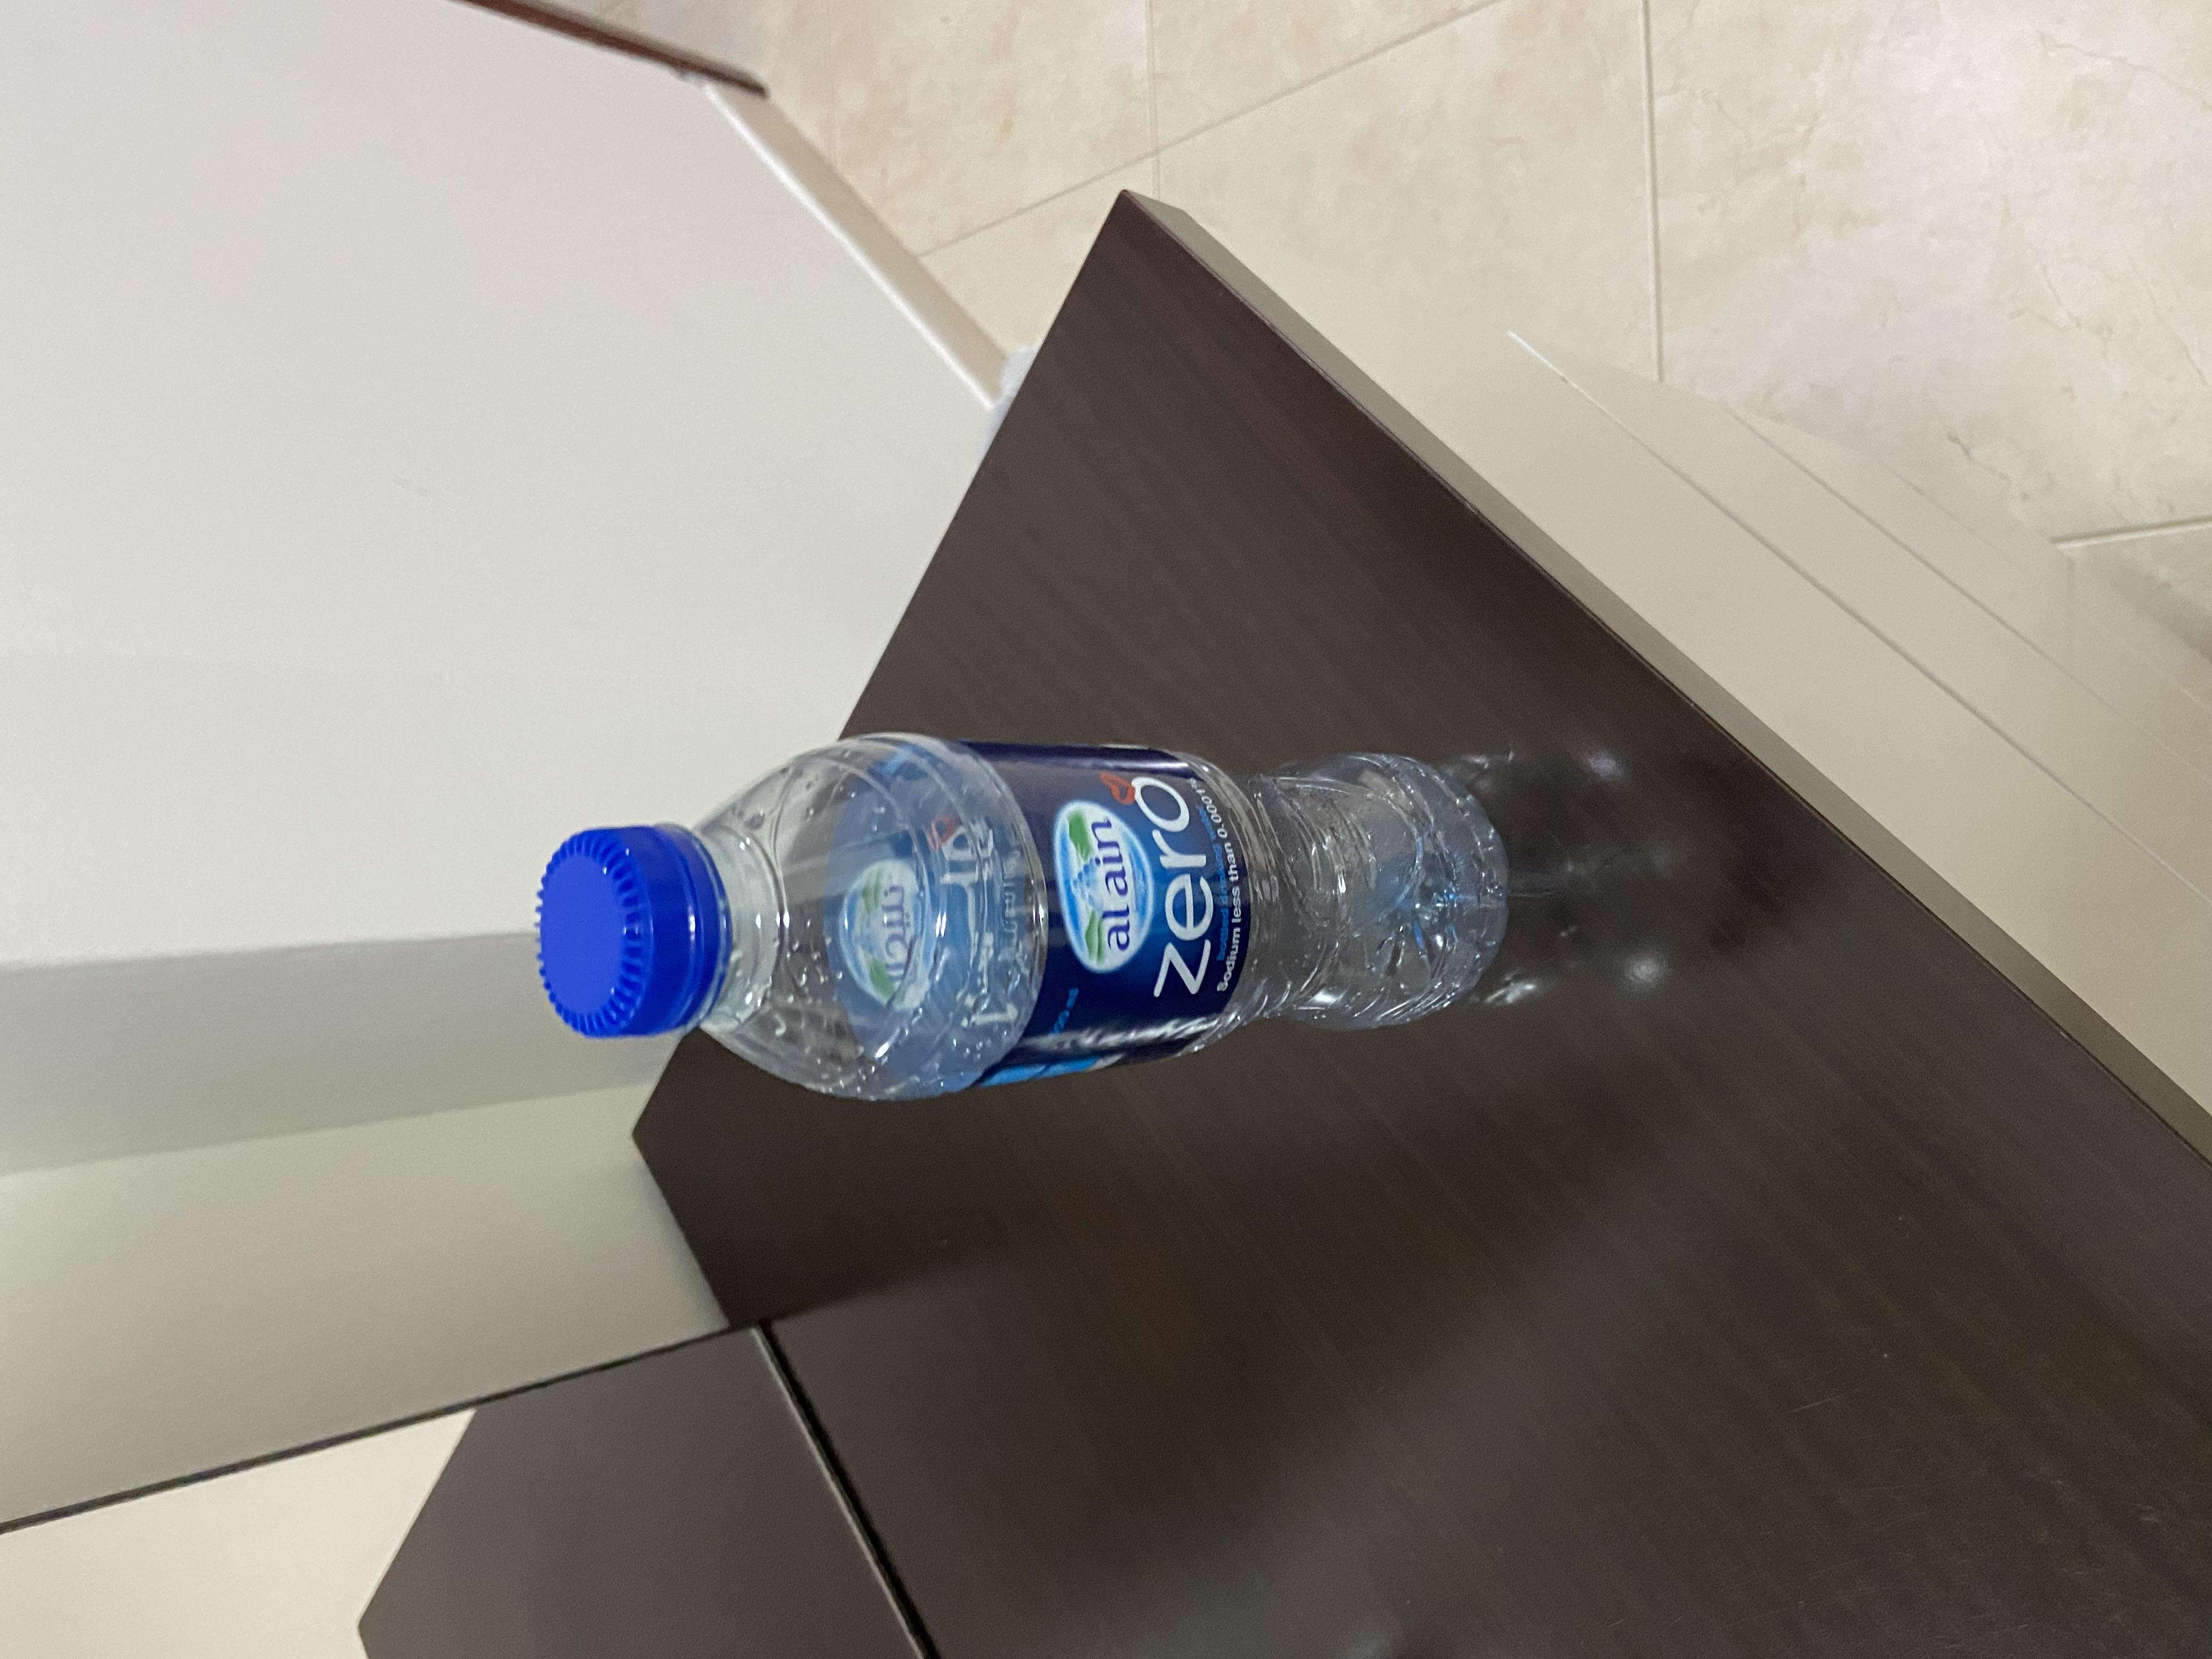bottle: (711, 375, 1268, 1155)
